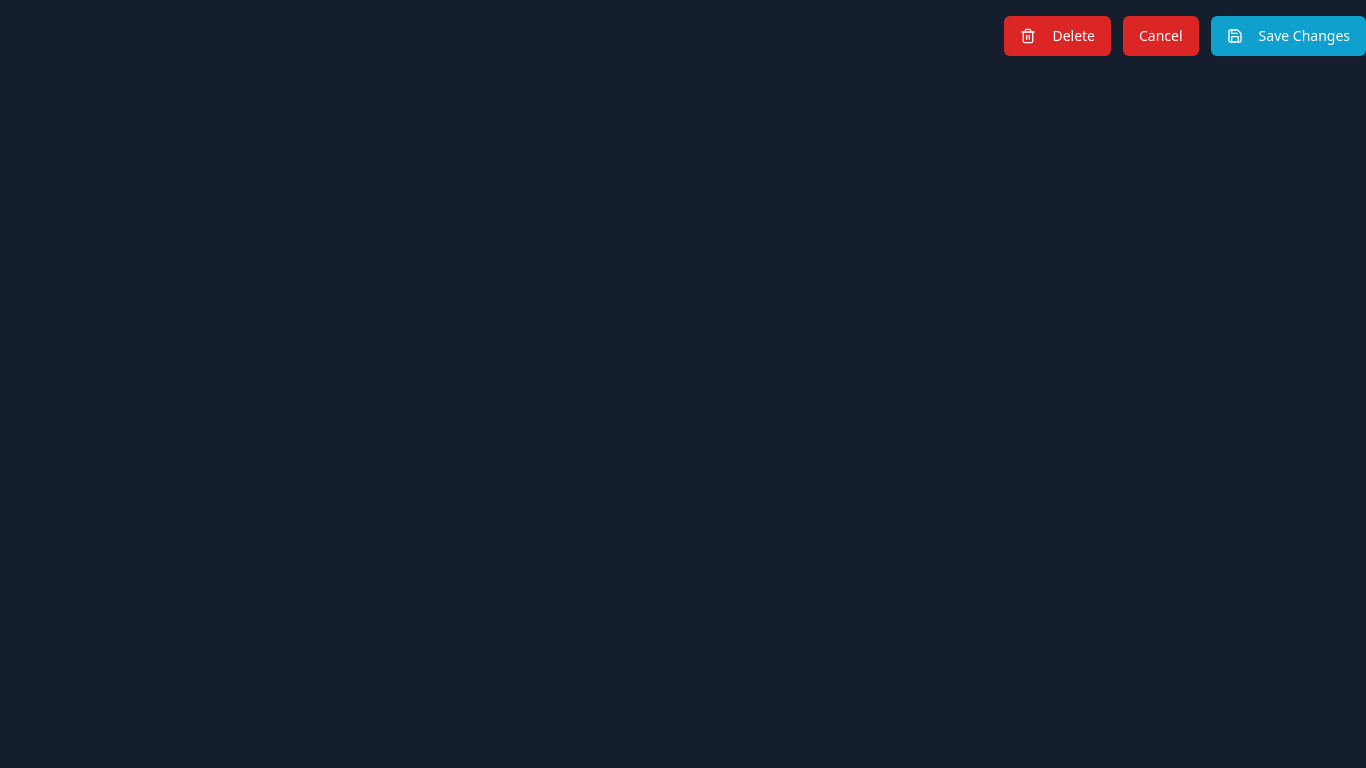
editor deletion delegates to the queued page action › calls the supplied delete handler once and describes unused-item refunds
The image size is (1366, 768).
Later steps or results of the test are not shown.
Click the button "Delete": (1058, 36) [1004,16,1111,56]
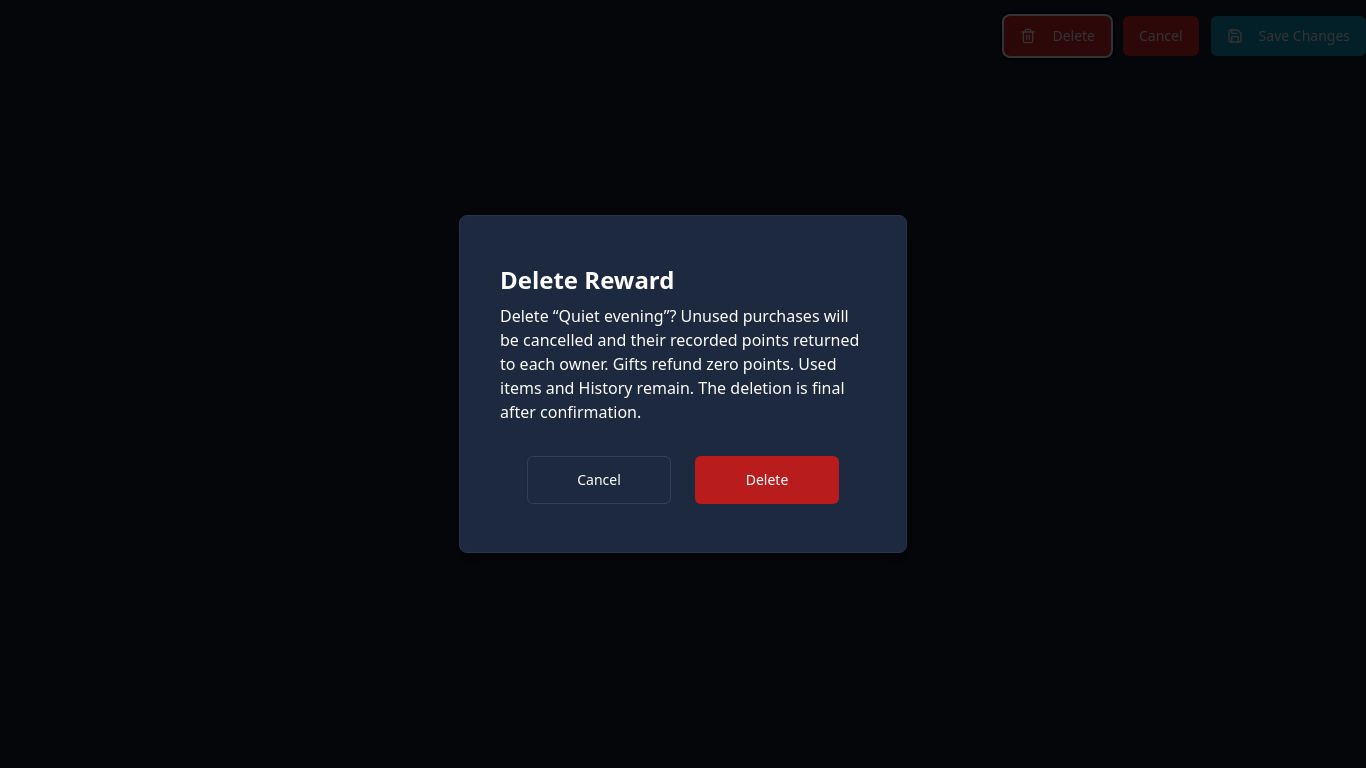
Now the text "Unused purchases will be cancelled" is shown, box [500,305,859,423]
